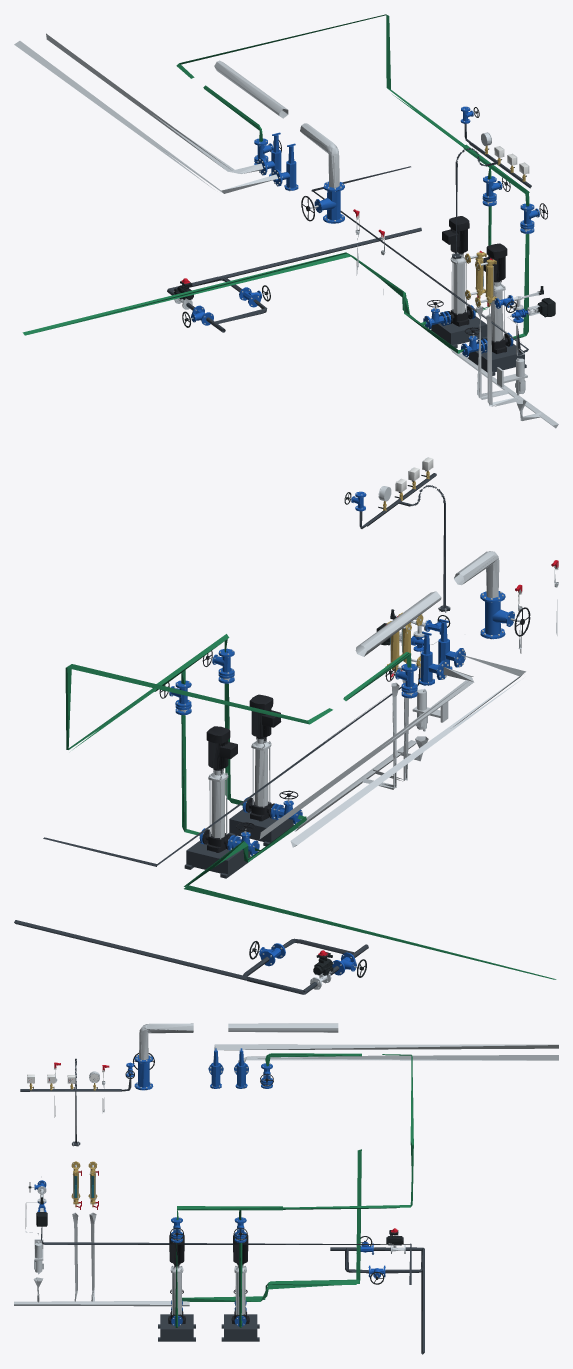
The picture shows the model from 3 angles, top to bottom: view 1: azimuth 30°, elevation 25°; view 2: azimuth 150°, elevation 25°; view 3: azimuth 270°, elevation 25°; orthographic projection. The views are drawn at different scales.
Visible parts, largest first — view 1: suction_common, pump_2, local_open_drains, safety_vent_1, pump_1, pump_branch_1, safety_vent_2, pump_branch_2, to_direct, steam_delivery, steam_manual, bottom_discharge (+6 smaller); view 2: pump_2, pump_1, to_direct, pump_branch_2, suction_common, safety_vent_1, local_open_drains, pump_branch_1, safety_vent_2, steam_delivery, steam_manual, bottom_discharge (+5 smaller); view 3: safety_vent_1, safety_vent_2, suction_common, local_open_drains, pump_branch_2, pump_branch_1, steam_delivery, pump_1, to_direct, pump_2, steam_rise, tds_common (+4 smaller).
Boxes of the visible parts, box(x1,y1,x2,y2) form: suction_common: box(22, 252, 457, 353); pump_2: box(442, 216, 473, 326); local_open_drains: box(450, 306, 558, 428); safety_vent_1: box(14, 41, 278, 193); pump_1: box(483, 243, 510, 353); pump_branch_1: box(458, 192, 529, 375); safety_vent_2: box(46, 33, 263, 173); pump_branch_2: box(419, 168, 491, 348); to_direct: box(176, 14, 464, 146); steam_delivery: box(214, 60, 288, 118); steam_manual: box(301, 181, 344, 223); bottom_discharge: box(171, 227, 421, 290); pump_2: box(202, 726, 237, 852); pump_1: box(245, 694, 281, 821); to_direct: box(65, 664, 332, 749); pump_branch_2: box(181, 670, 261, 878); suction_common: box(184, 816, 556, 979); safety_vent_1: box(290, 654, 525, 847); local_open_drains: box(294, 679, 428, 831); pump_branch_1: box(224, 639, 306, 846); safety_vent_2: box(259, 667, 473, 839); steam_delivery: box(355, 591, 441, 656); steam_manual: box(480, 591, 530, 639); bottom_discharge: box(14, 920, 304, 994); safety_vent_1: box(213, 1044, 558, 1062); safety_vent_2: box(238, 1055, 558, 1062); suction_common: box(182, 1149, 361, 1301); local_open_drains: box(14, 1212, 189, 1306); pump_branch_2: box(221, 1210, 259, 1341); pump_branch_1: box(158, 1210, 195, 1341); steam_delivery: box(228, 1023, 338, 1032); pump_1: box(168, 1233, 185, 1324); to_direct: box(283, 1054, 413, 1209); pump_2: box(231, 1233, 249, 1324); steam_rise: box(139, 1023, 193, 1060); tds_common: box(41, 1227, 410, 1244).
Size of the model in its own units: 5 by 3.2 by 6.42.
